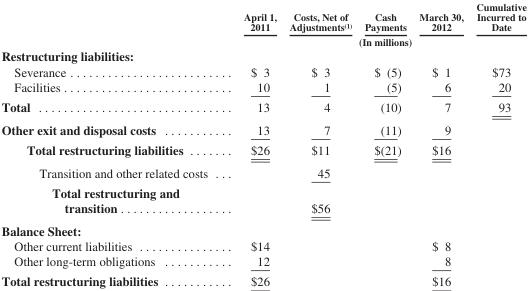table: (0, 0, 526, 287)
table column: (0, 0, 225, 287), (282, 0, 357, 287), (225, 0, 282, 287), (412, 0, 469, 287), (469, 0, 526, 287), (357, 0, 412, 287)
table column header: (0, 0, 526, 48)
table projected row header: (0, 218, 526, 237), (0, 48, 526, 63)
table row: (0, 182, 526, 218), (0, 0, 526, 34), (0, 117, 526, 139), (0, 160, 526, 182), (0, 96, 526, 117), (0, 139, 526, 160), (0, 218, 526, 237), (0, 78, 526, 96), (0, 253, 526, 270), (0, 270, 526, 287), (0, 237, 526, 253), (0, 48, 526, 63), (0, 63, 526, 78), (0, 34, 526, 48)
table spanning cell: (225, 34, 526, 48)
